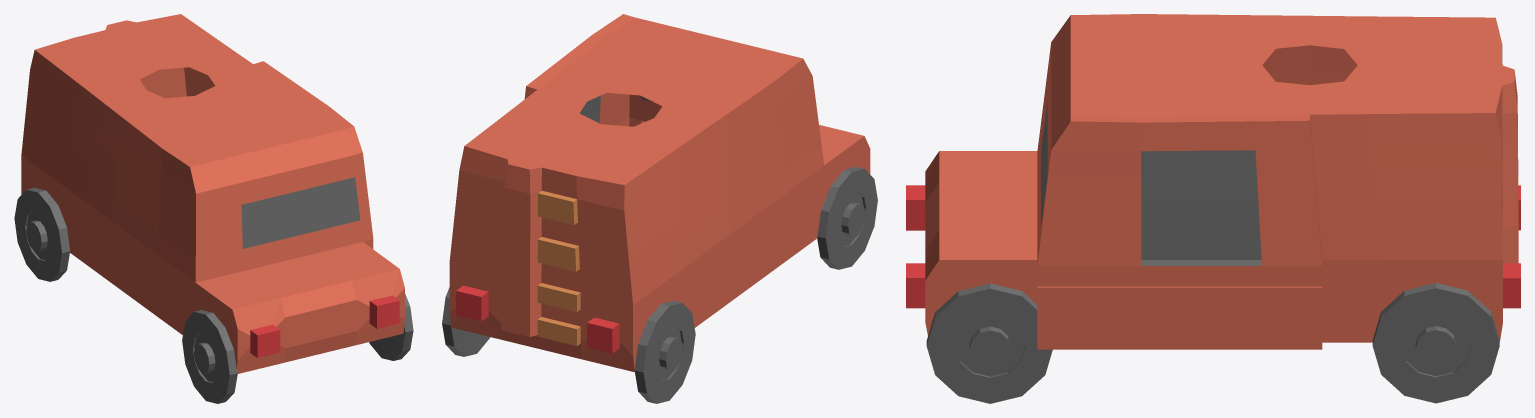
The model's file is Car.fbx.
3 views of the same model, side by side, from view 1: azimuth 30°, elevation 25°; view 2: azimuth 150°, elevation 25°; view 3: azimuth 270°, elevation 25° (orthographic). The views are drawn at different scales.
Parts seen in each view (by area): view 1: Cube, wheel.001, wheel; view 2: Cube, wheel, wheel.001; view 3: Cube, wheel, wheel.001.
Boxes of the visible parts, x1=… form: Cube: x1=21, y1=14, x2=404, y2=373; wheel.001: x1=182, y1=293, x2=413, y2=403; wheel: x1=14, y1=187, x2=70, y2=281; Cube: x1=449, y1=14, x2=870, y2=371; wheel: x1=442, y1=287, x2=695, y2=403; wheel.001: x1=817, y1=166, x2=877, y2=269; Cube: x1=906, y1=14, x2=1520, y2=349; wheel: x1=1372, y1=283, x2=1499, y2=403; wheel.001: x1=926, y1=283, x2=1052, y2=403.
Size of the model in its own units: 268 by 276 by 552.
